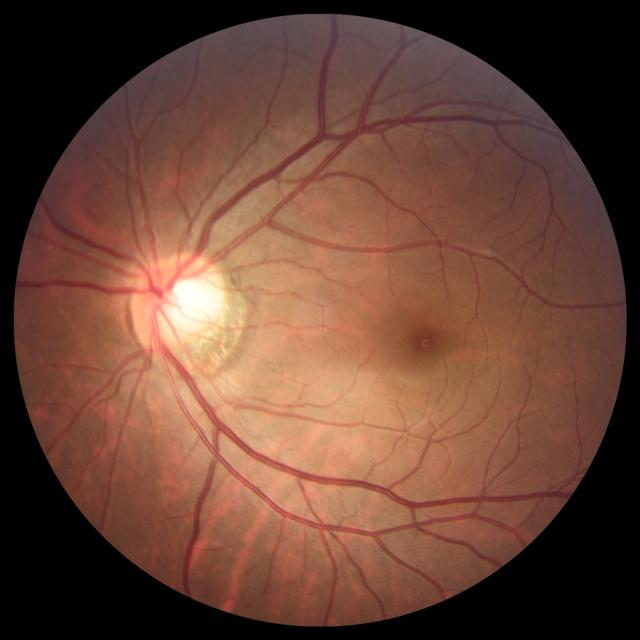OC: (160, 278, 214, 336)
OD: (129, 251, 227, 355)
